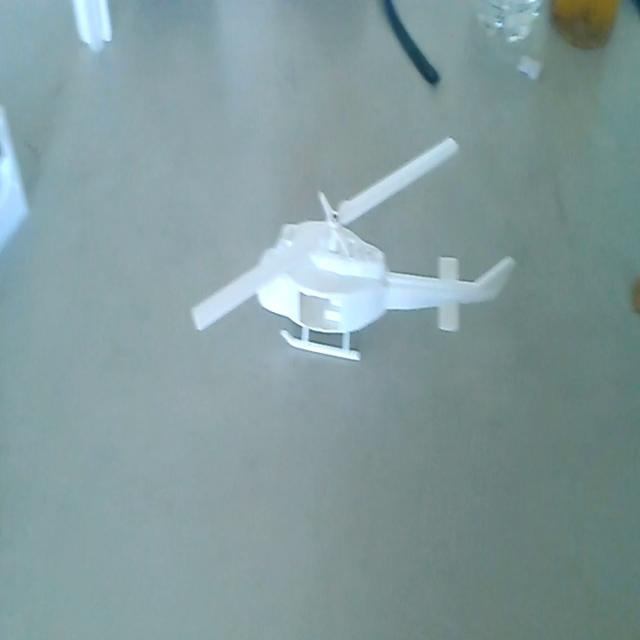Helicopter: (191, 131, 519, 369)
